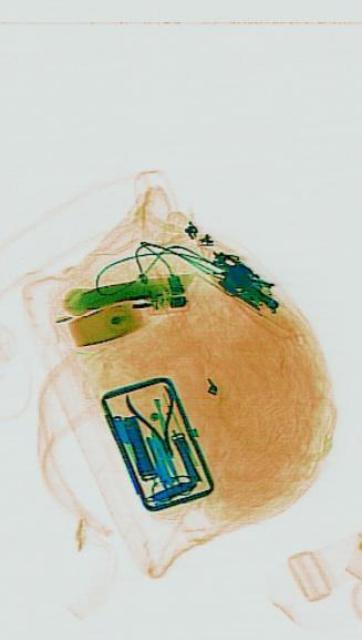Pliers: (121, 364, 185, 474)
